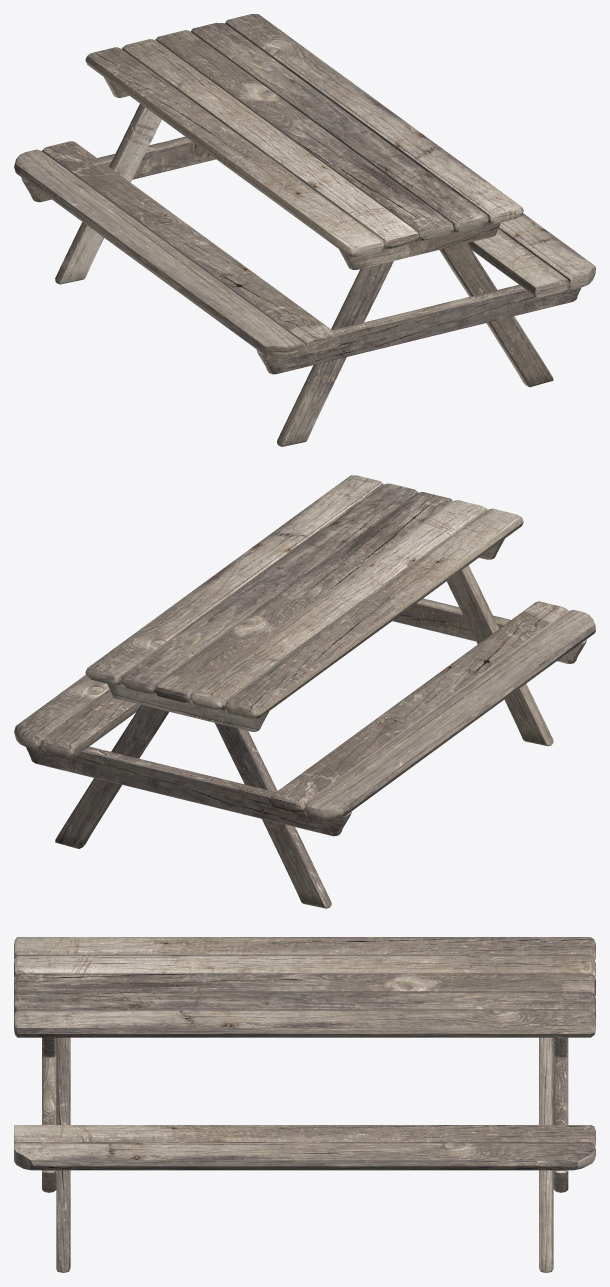
Rendered from picnictable.obj.
The picture shows the model from 3 angles, top to bottom: view 1: azimuth 30°, elevation 25°; view 2: azimuth 150°, elevation 25°; view 3: azimuth 270°, elevation 25°; orthographic projection. The views are drawn at different scales.
Visible parts, largest first — view 1: Picnic_Table_Cube.003; view 2: Picnic_Table_Cube.003; view 3: Picnic_Table_Cube.003.
Boxes of the visible parts, x1,y1,x2,y2 form: Picnic_Table_Cube.003: (14, 14, 595, 446); Picnic_Table_Cube.003: (14, 475, 595, 908); Picnic_Table_Cube.003: (14, 937, 595, 1272).
Bounding box in the file's own units: 2.16 × 1.25 × 3.
Materials: 1 (1 with a texture image).
